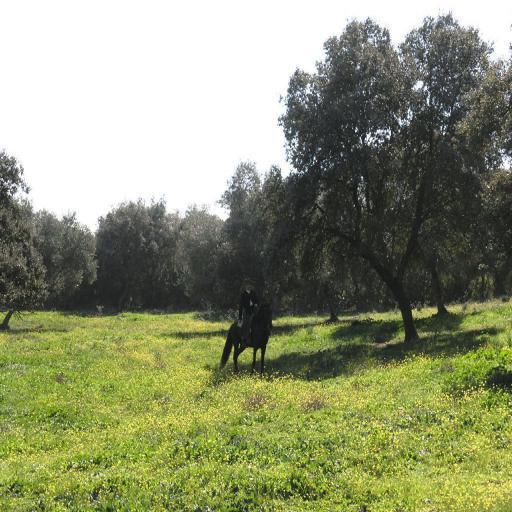horse: (218, 298, 276, 377)
